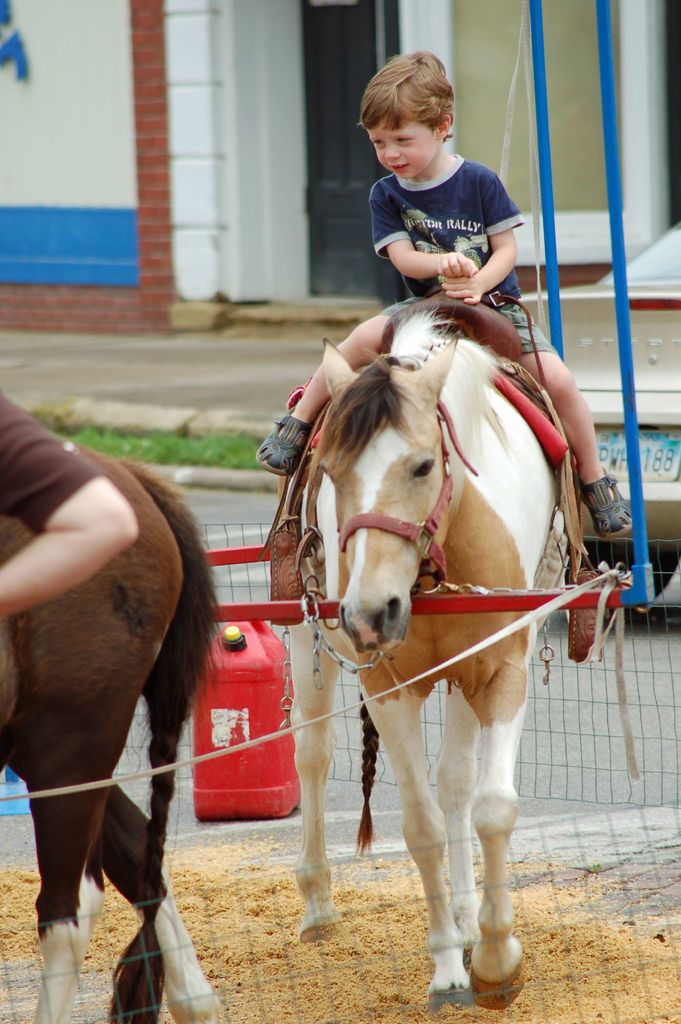Person: (0, 386, 140, 618)
